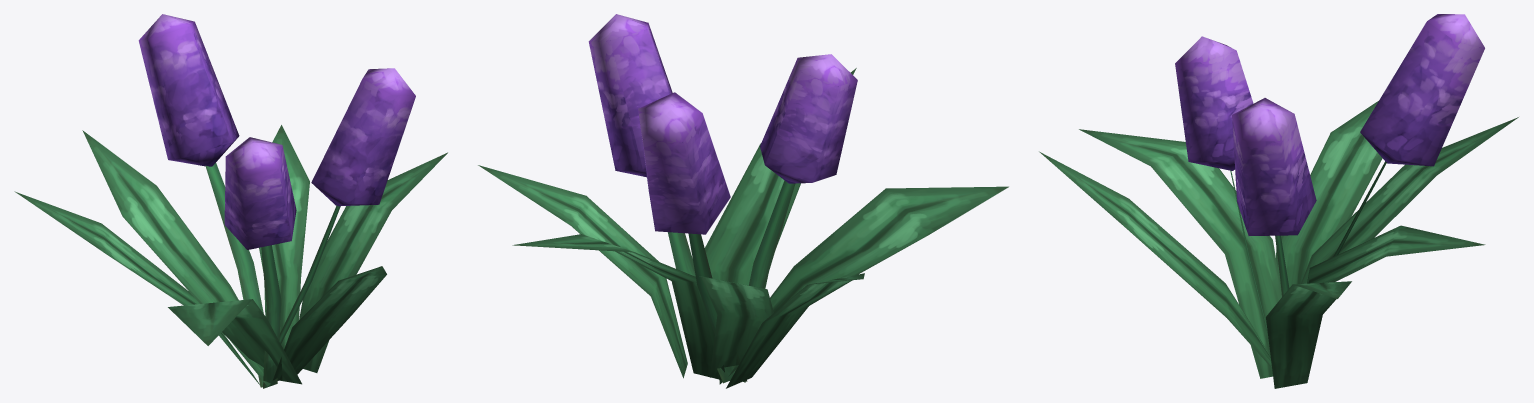
Rendered from Brush_flower.fbx.
3 views of the same model, side by side, from view 1: azimuth 30°, elevation 25°; view 2: azimuth 150°, elevation 25°; view 3: azimuth 270°, elevation 25° (orthographic). The views are drawn at different scales.
Visible parts, largest first — view 1: Brush_flower; view 2: Brush_flower; view 3: Brush_flower.
Boxes of the visible parts, x1=… form: Brush_flower: x1=14, y1=14, x2=447, y2=388; Brush_flower: x1=478, y1=14, x2=1008, y2=388; Brush_flower: x1=1039, y1=14, x2=1518, y2=388.
Size of the model in its own units: 105 by 80.94 by 103.
